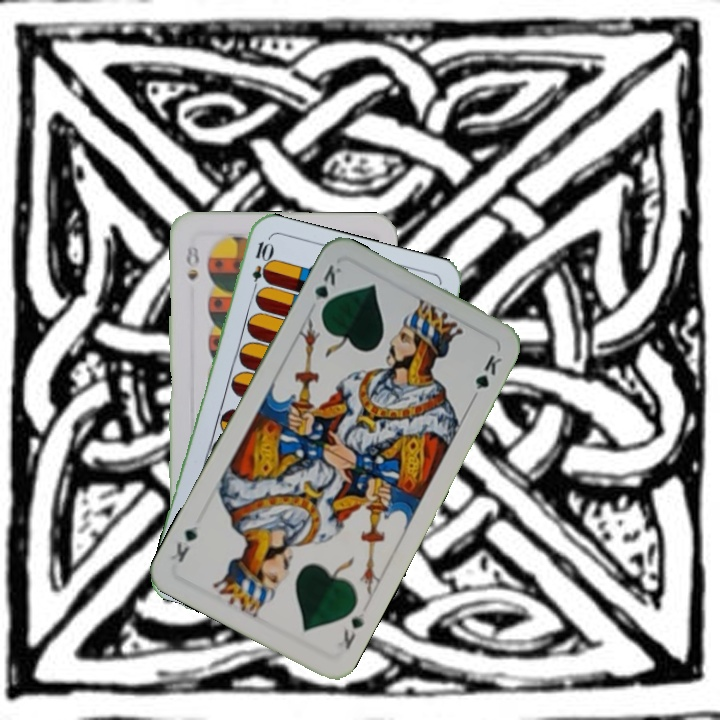E10: (247, 237, 273, 296)
GK: (310, 260, 344, 317), (339, 608, 367, 653)
S8: (182, 241, 202, 283)
